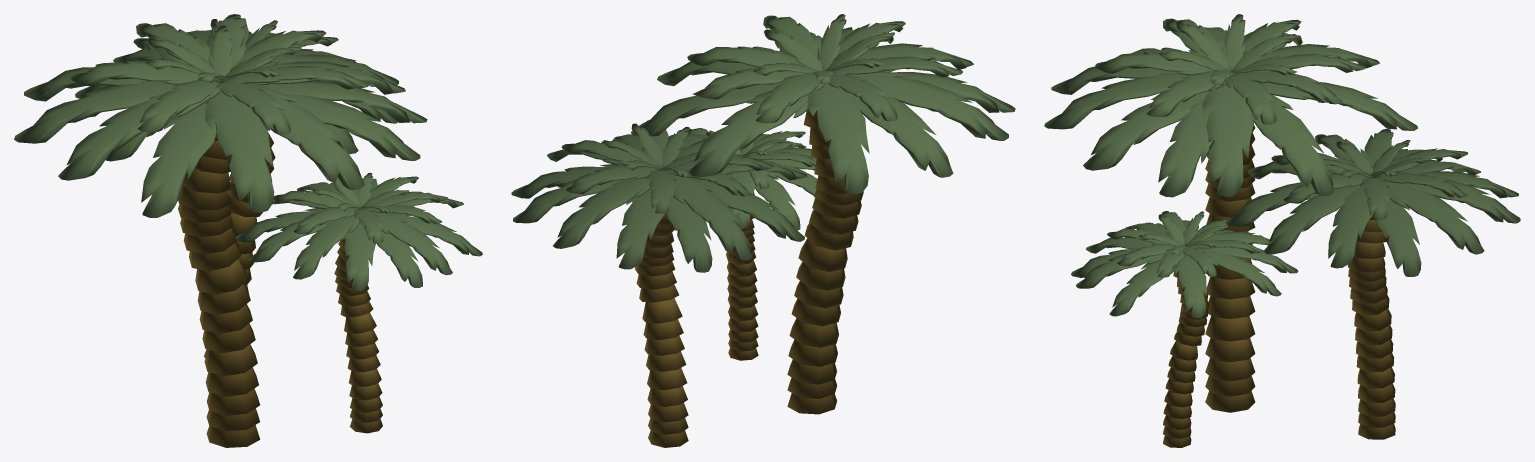
The model's file is PalmiyeAgaci.fbx.
3 views of the same model, side by side, from view 1: azimuth 30°, elevation 25°; view 2: azimuth 150°, elevation 25°; view 3: azimuth 270°, elevation 25° (orthographic). The views are drawn at different scales.
Parts seen in each view (by area): view 1: Cylinder.085; view 2: Cylinder.085; view 3: Cylinder.085.
Part boxes in pixels (x1,y1,x2,y2): Cylinder.085: (14,14,482,447); Cylinder.085: (511,14,1015,447); Cylinder.085: (1044,14,1520,447).
Size of the model in its own units: 80.71 by 72.72 by 88.65.
